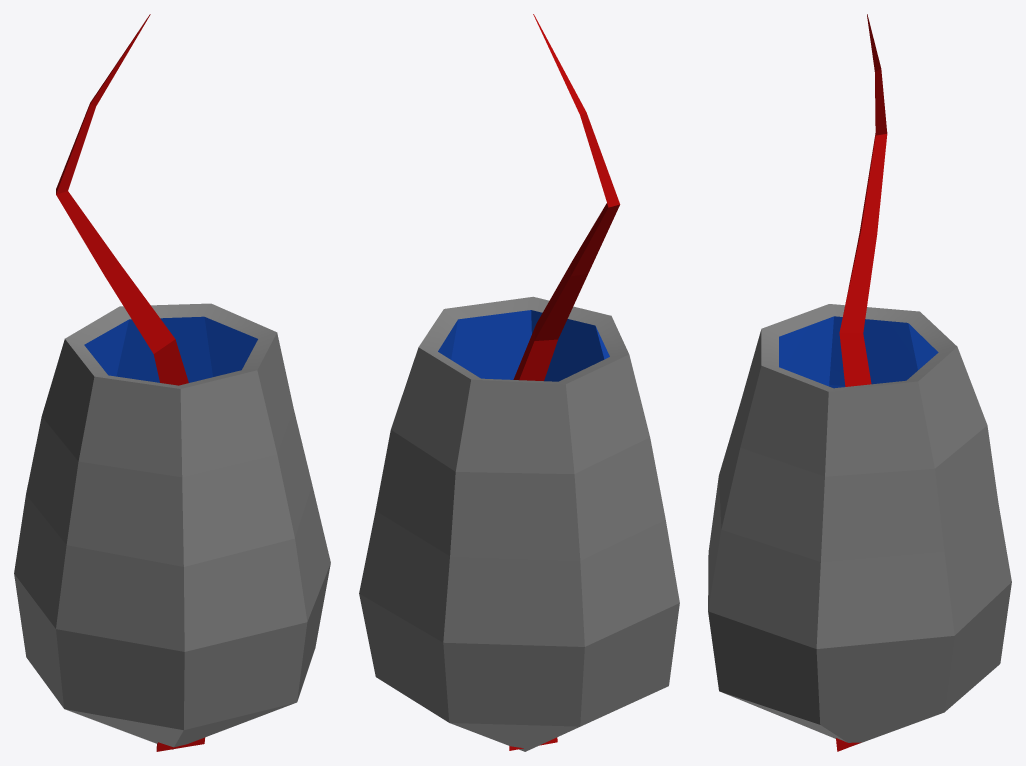
The model's file is FungiFlagel01.fbx.
3 views of the same model, side by side, from view 1: azimuth 30°, elevation 25°; view 2: azimuth 150°, elevation 25°; view 3: azimuth 270°, elevation 25° (orthographic). The views are drawn at different scales.
Visible parts, largest first — view 1: FungiFlagel01_LOD0; view 2: FungiFlagel01_LOD0; view 3: FungiFlagel01_LOD0.
Boxes of the visible parts, left/top/right/bottom form: FungiFlagel01_LOD0: left=14, top=14, right=330, bottom=751; FungiFlagel01_LOD0: left=359, top=14, right=679, bottom=751; FungiFlagel01_LOD0: left=708, top=14, right=1011, bottom=751.
Size of what is drawn, in the model's own units: 29.42 by 75.26 by 28.61.
